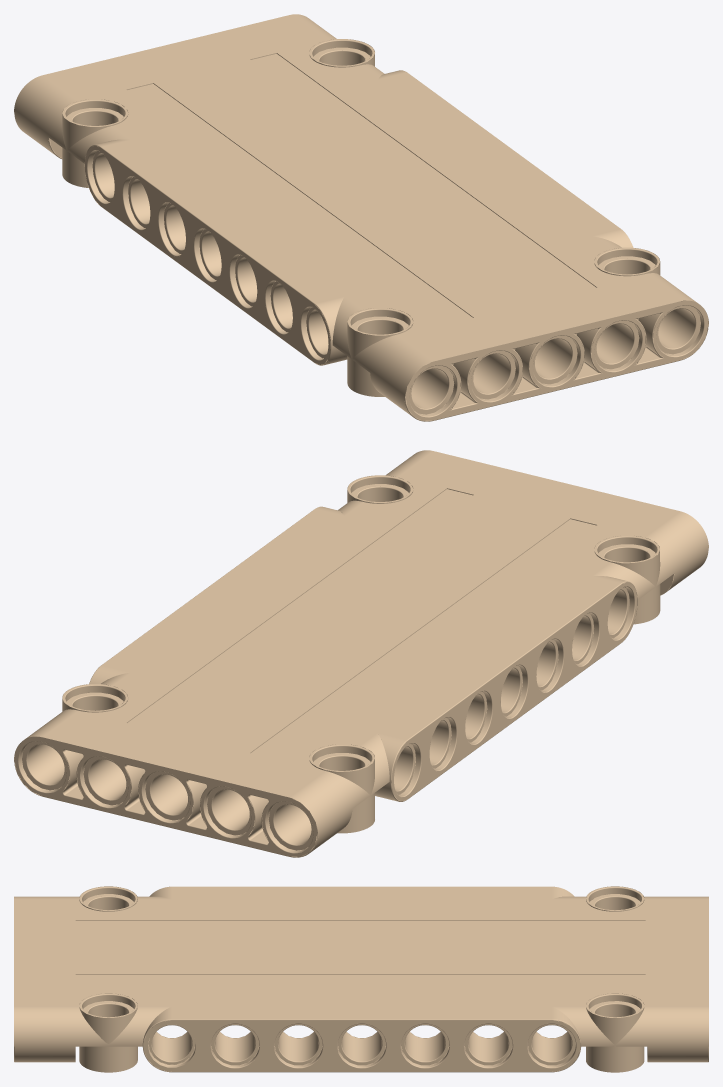
The model's file is Lego_Technic_64782_NX8.glb.
The picture shows the model from 3 angles, top to bottom: view 1: azimuth 30°, elevation 25°; view 2: azimuth 150°, elevation 25°; view 3: azimuth 270°, elevation 25°; orthographic projection. The views are drawn at different scales.
Visible parts, largest first — view 1: Lego_Technic_64782_NX8; view 2: Lego_Technic_64782_NX8; view 3: Lego_Technic_64782_NX8.
Part boxes in pixels (x1,y1,x2,y2): Lego_Technic_64782_NX8: [14, 14, 708, 421]; Lego_Technic_64782_NX8: [14, 450, 708, 857]; Lego_Technic_64782_NX8: [14, 886, 708, 1072].
Bounding box in the file's own units: 0.0398 × 0.0076 × 0.0878.
